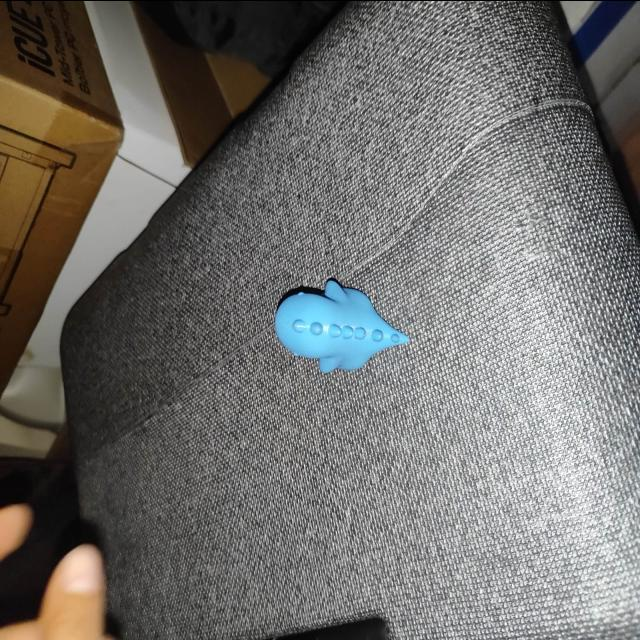DINO: (259, 254, 412, 393)
